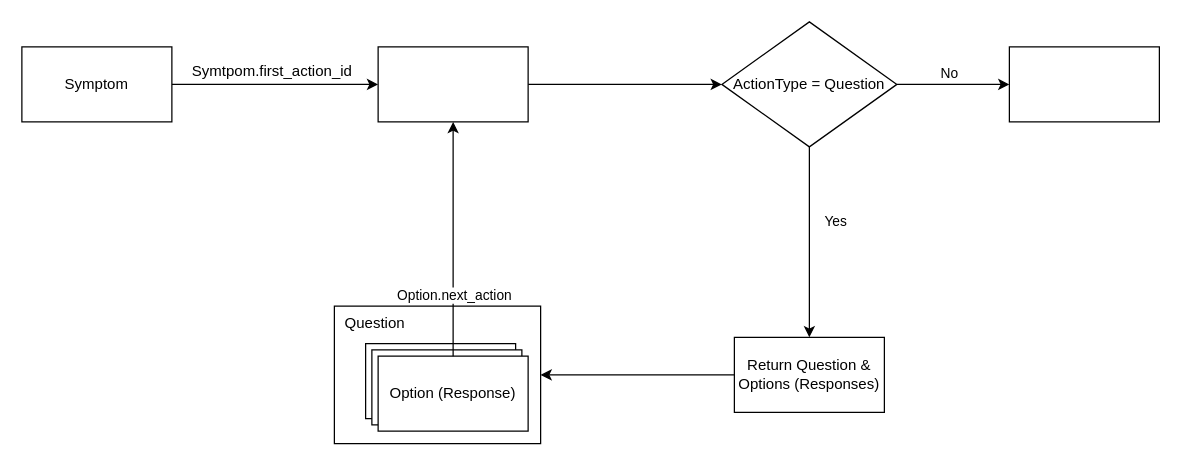
This 1181x466 diagram has some shape labels left out. Here are the shapes that lost their labels. From the top down, the centre of each, then its label:
(452,84): Actionable
(1083,84): Return Result (Responses) & RiskCategory
